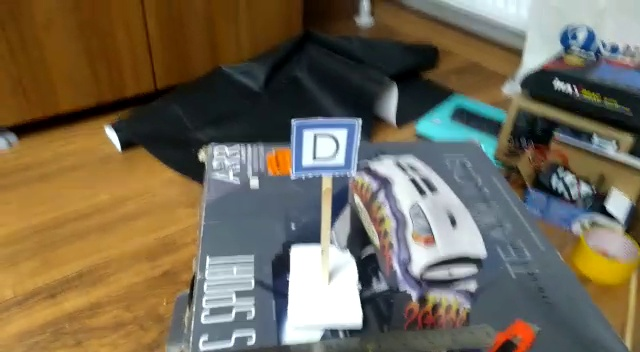durak: (292, 122, 358, 173)
